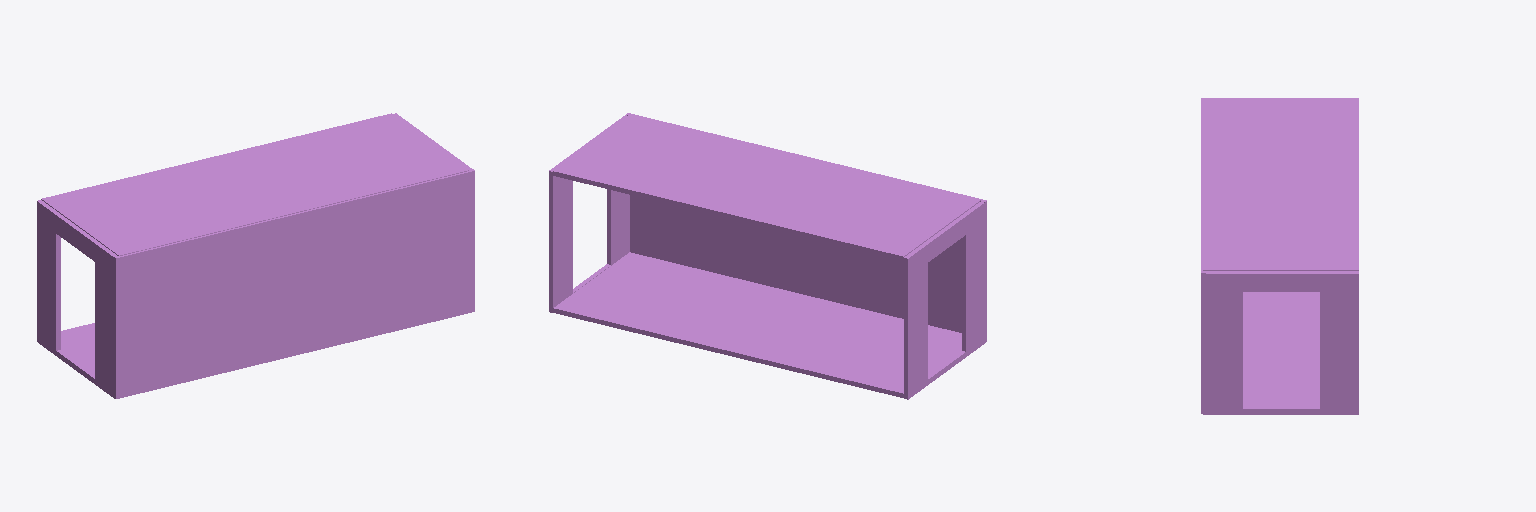
Rendered from Frame_3_8.obj.
The picture shows the model from 3 angles: view 1: azimuth 30°, elevation 25°; view 2: azimuth 150°, elevation 25°; view 3: azimuth 270°, elevation 25°; orthographic projection.
Parts seen in each view (by area): view 1: Box010; view 2: Box010; view 3: Box010.
Boxes of the visible parts, box(x1,y1,x2,y2) form: Box010: box(37, 113, 474, 398); Box010: box(549, 113, 986, 399); Box010: box(1201, 98, 1358, 414).
Bounding box in the file's own units: 8 × 3.02 × 3.05.